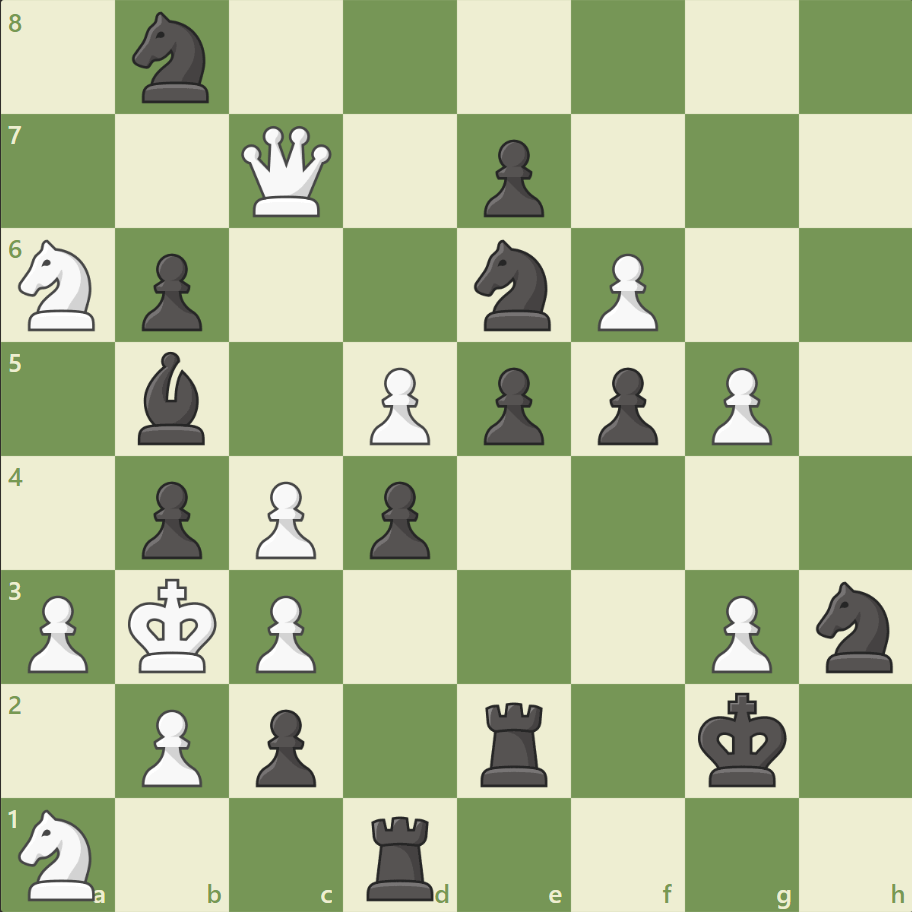K: (124, 571, 224, 679)
N: (11, 234, 108, 337), (11, 802, 108, 904)
P: (701, 359, 776, 450), (247, 473, 322, 564), (20, 586, 95, 677), (247, 586, 322, 677), (701, 586, 776, 677), (133, 700, 208, 791), (588, 246, 662, 337), (361, 359, 435, 450)
Q: (237, 122, 336, 222)
b: (131, 347, 215, 449)
k: (692, 685, 792, 793)
n: (124, 7, 222, 110), (465, 234, 562, 337), (806, 575, 903, 677)
p: (474, 132, 549, 223), (133, 246, 208, 337), (474, 359, 549, 450), (133, 473, 208, 564), (247, 700, 322, 791), (588, 359, 662, 450), (361, 473, 435, 564)
r: (473, 693, 556, 790), (360, 806, 442, 904)
